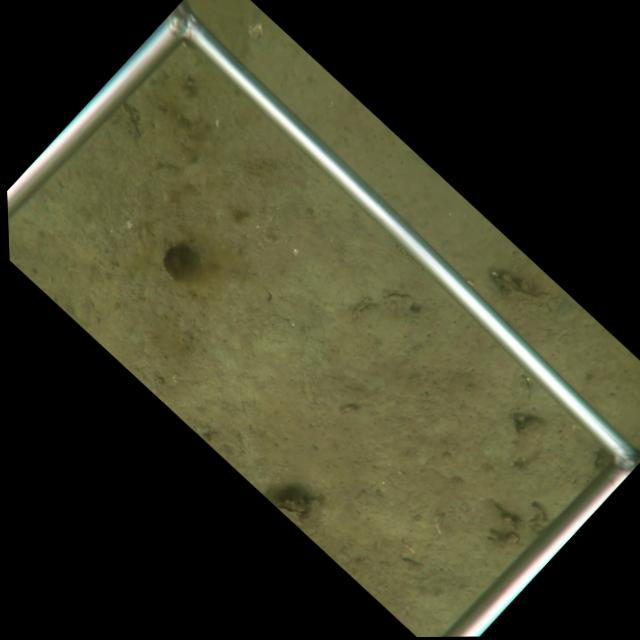Oyster-Closed: (351, 300, 378, 327), (275, 501, 306, 521), (383, 289, 408, 303)
